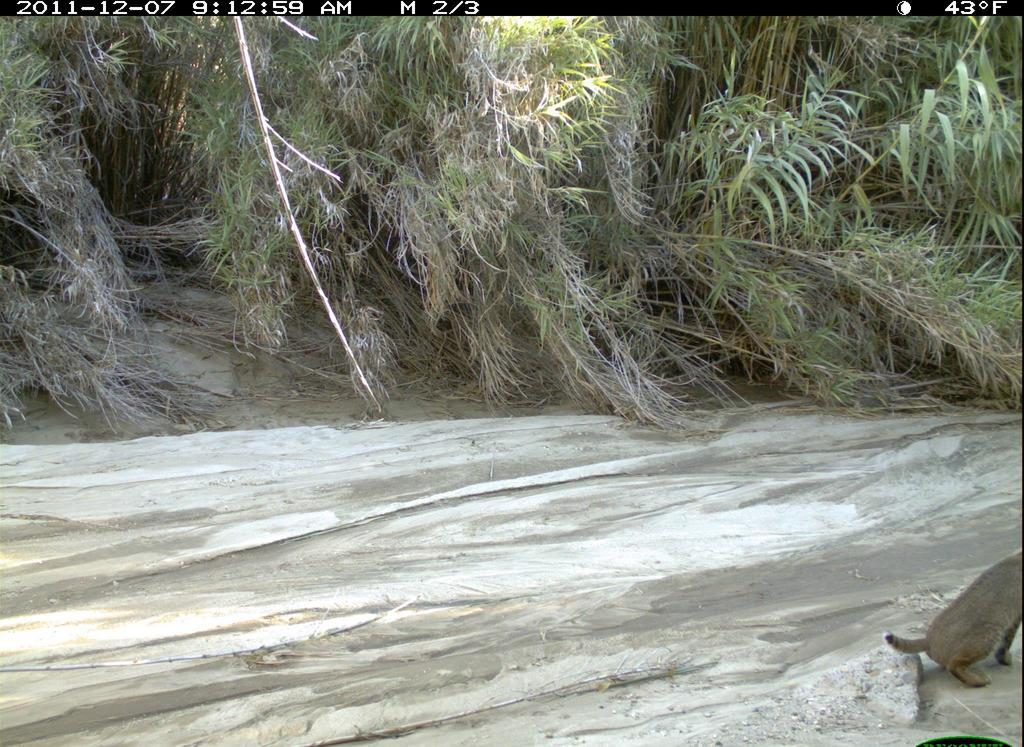bobcat: (872, 521, 1021, 701)
